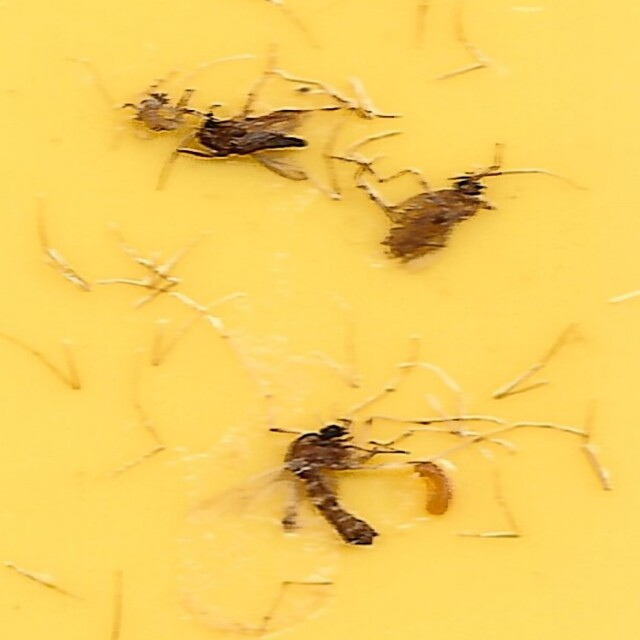Nematocera: (234, 412, 383, 555), (356, 153, 518, 270), (184, 104, 322, 171), (122, 85, 184, 134)
